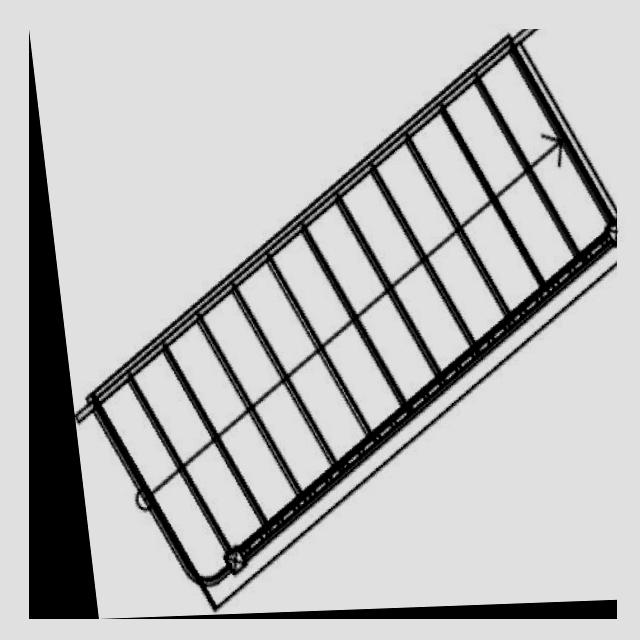stair: (29, 29, 617, 619)
